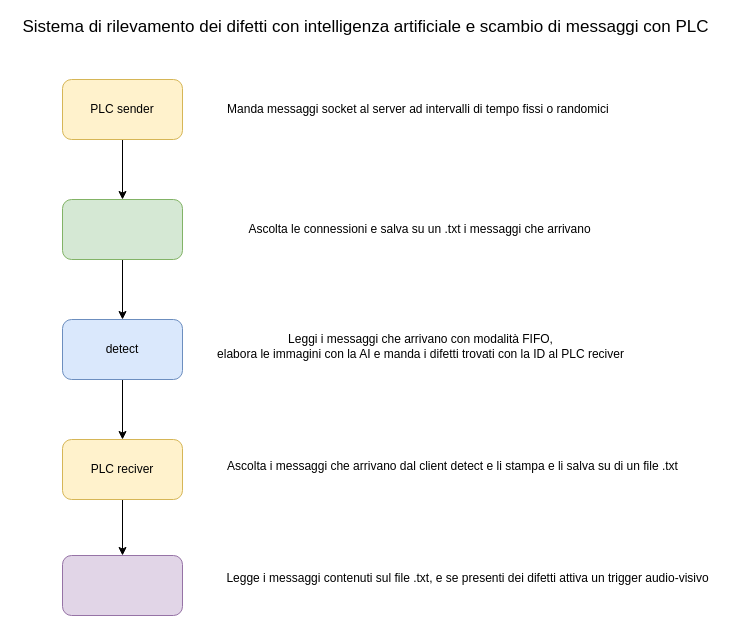
This 730x633 diagram has some shape labels left out. Each missing label, with the centre of its shape:
server messages: the point at 122,229
visualizer: the point at 122,585
